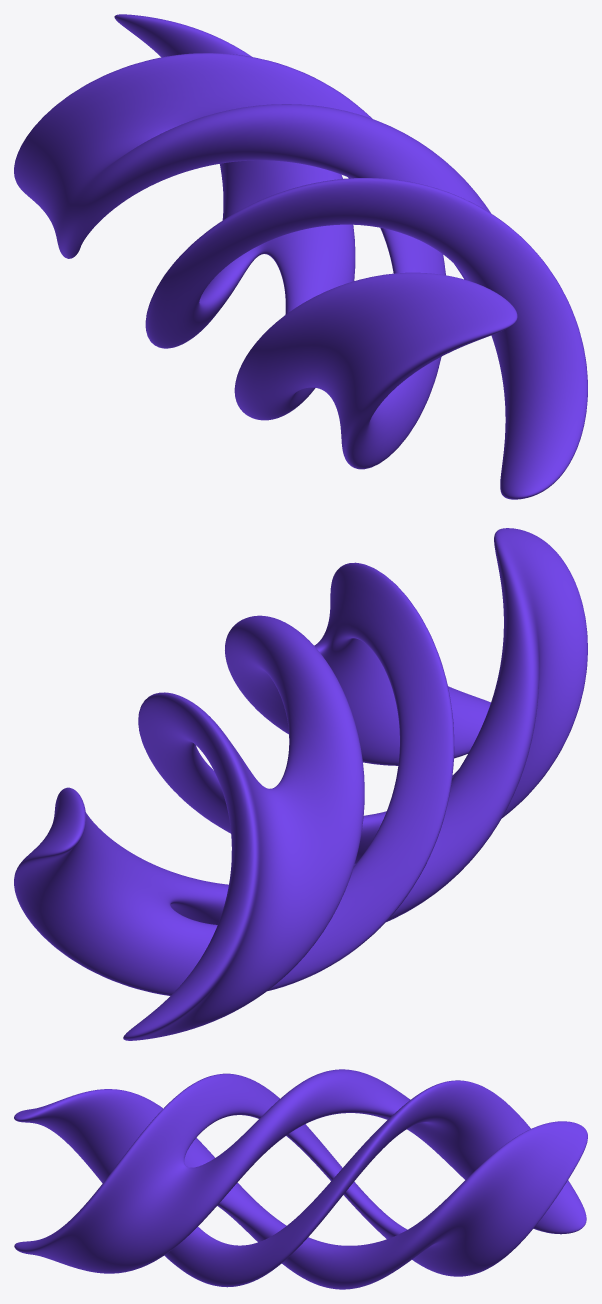
Rendered from twrilling-twister-v4.glb.
3 renders of one model, top to bottom at view 1: azimuth 30°, elevation 25°; view 2: azimuth 150°, elevation 25°; view 3: azimuth 270°, elevation 25°, orthographic. The views are drawn at different scales.
Parts seen in each view (by area): view 1: SHAPE ONE; view 2: SHAPE ONE; view 3: SHAPE ONE.
Part boxes in pixels (left/top/right/bottom): SHAPE ONE: left=14, top=14, right=587, bottom=499; SHAPE ONE: left=14, top=528, right=587, bottom=1040; SHAPE ONE: left=14, top=1069, right=587, bottom=1289.
Size of the model in its own units: 2.64 by 2.66 by 6.91.
